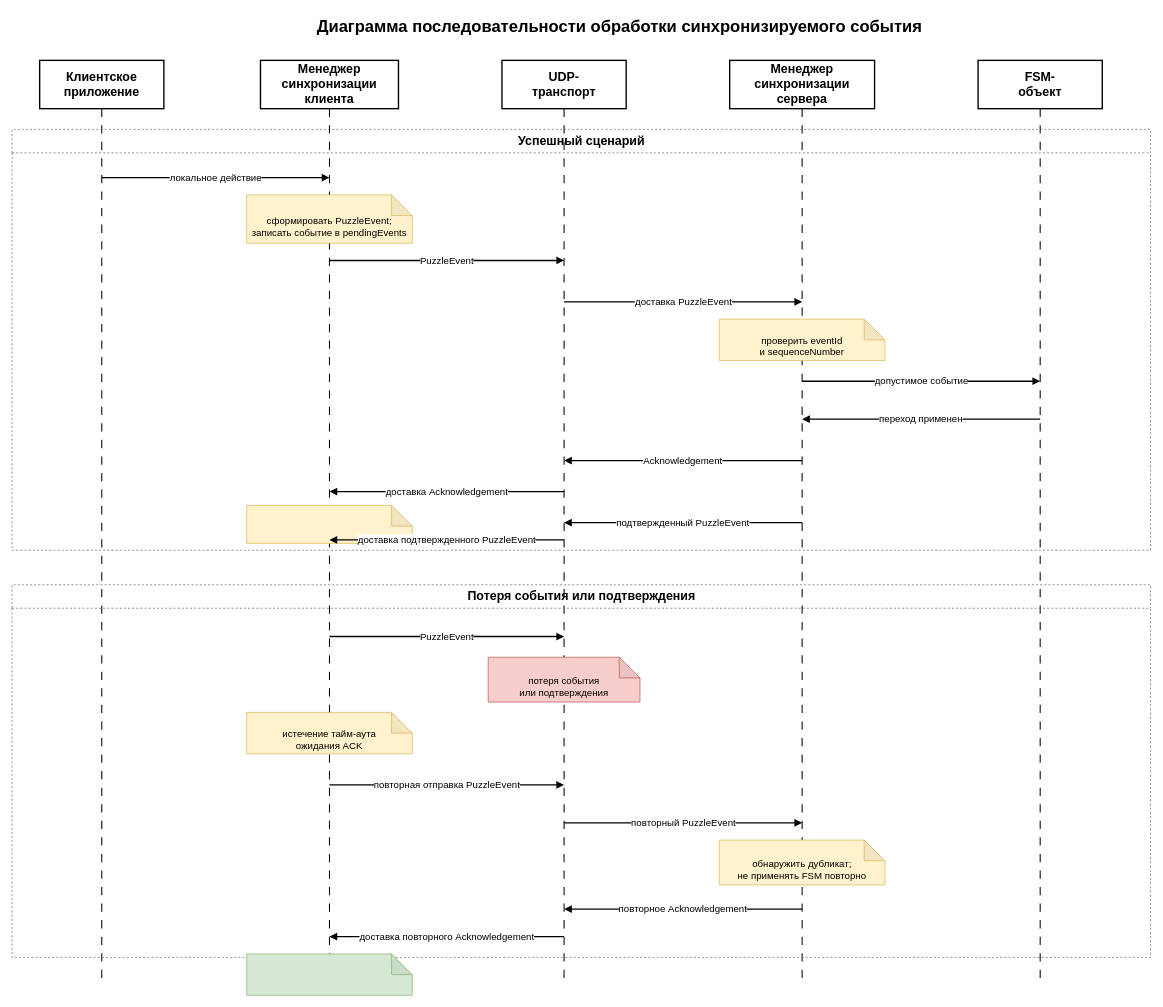
Image size: 1163x1007. Some labels were removed from this diagram. Here are the shapes that lost their labels. From the top down, the centre of each, then its label:
[329,524]: удалить событие из pendingEvents
[329,974]: завершить ожидание; очистить pendingEvents
